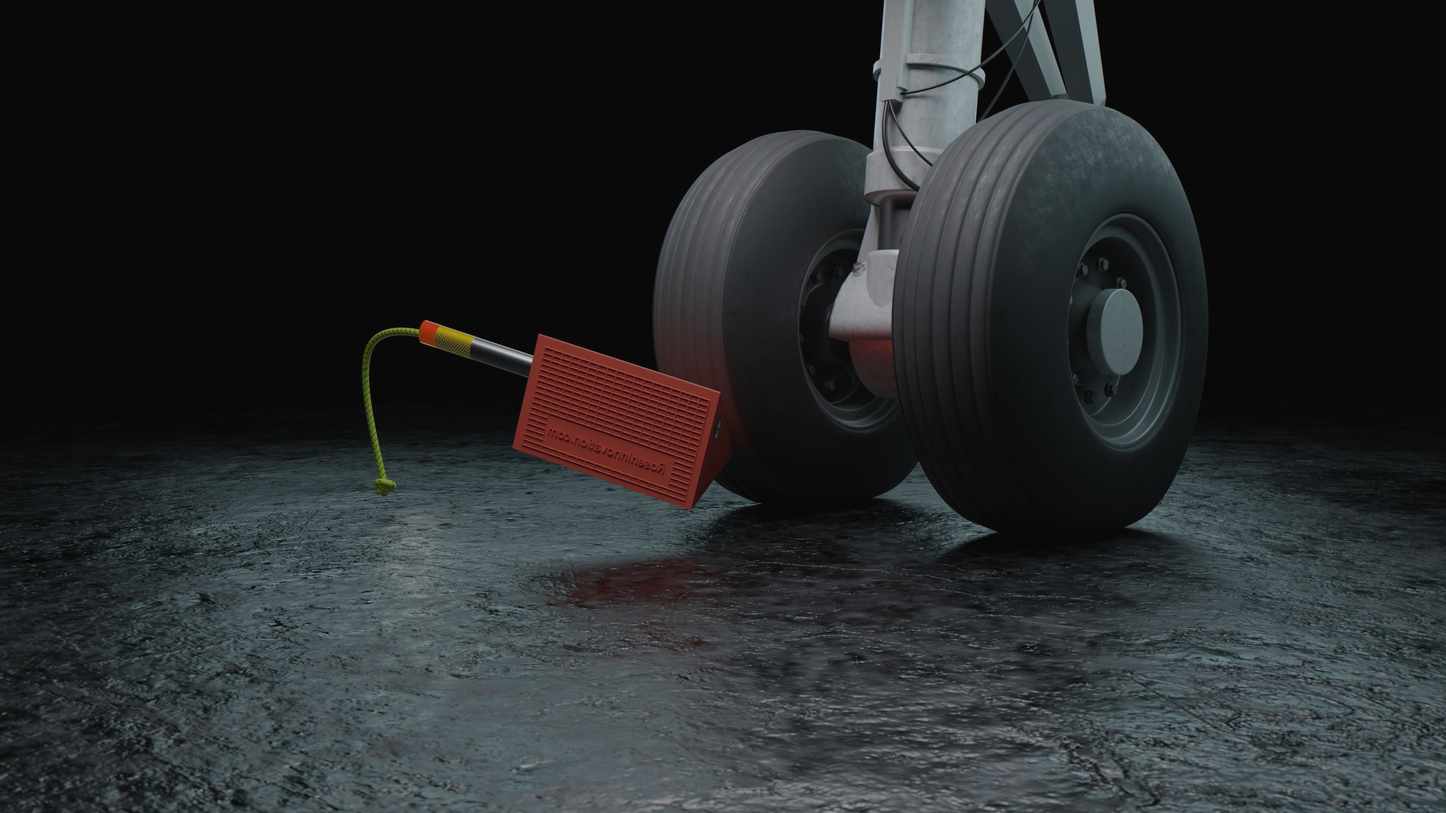chock: (501, 328, 742, 515)
wheel: (884, 93, 1217, 542), (642, 122, 932, 511)
